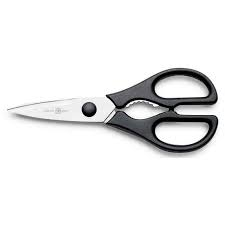tihiras: (6, 64, 222, 158)
